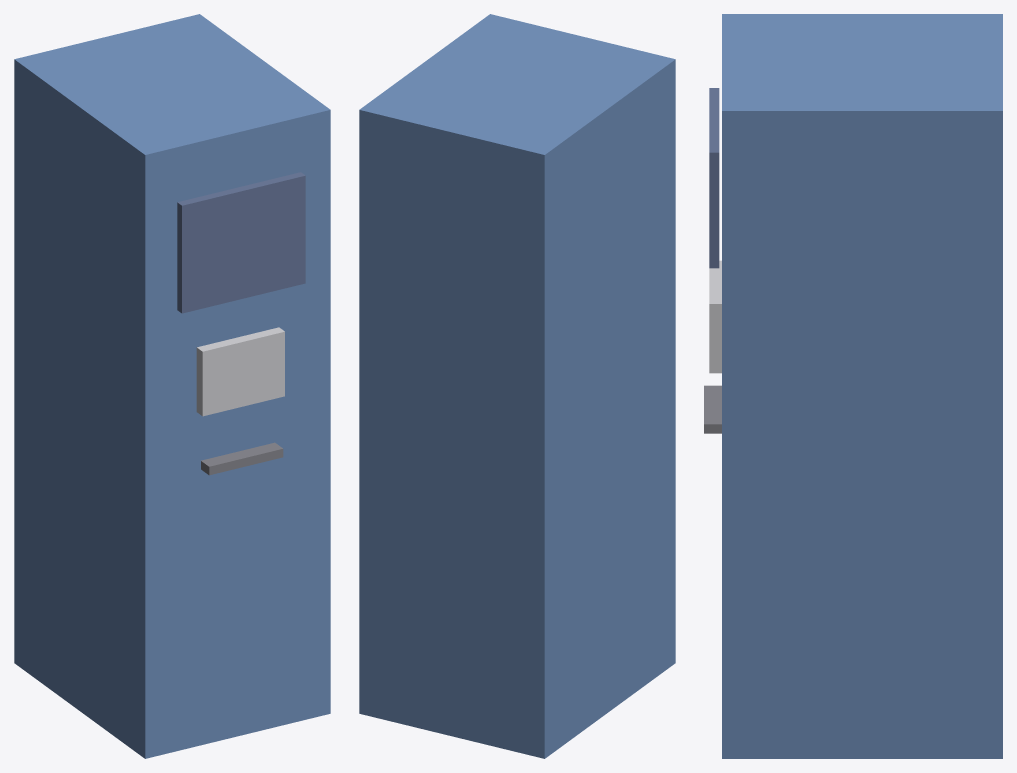
Rendered from atm.glb.
The picture shows the model from 3 angles, left to right: view 1: azimuth 30°, elevation 25°; view 2: azimuth 150°, elevation 25°; view 3: azimuth 270°, elevation 25°; orthographic projection. The views are drawn at different scales.
Visible parts, largest first — view 1: body, screen, keypad, card_slot; view 2: body; view 3: body, screen, keypad, card_slot.
Part boxes in pixels (box(x1,y1,x2,y2)): body: box(14, 14, 330, 758); screen: box(177, 172, 305, 313); keypad: box(196, 327, 284, 416); card_slot: box(201, 442, 283, 475); body: box(359, 14, 675, 758); body: box(722, 14, 1002, 758); screen: box(709, 88, 719, 268); keypad: box(709, 260, 721, 373); card_slot: box(704, 385, 721, 433).
Size of the model in its own units: 0.45 by 1.4 by 0.585.
